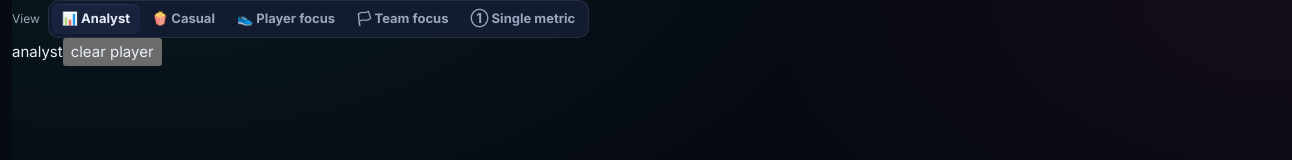
Test: view switching › defaults to Analyst, switches views, writes ?view= and remembers the choice
Check: the text named "view" reads "analyst", box x1=12 y1=42 x2=63 y2=60
Click the button "🍿 Casual".
click(183, 19)  # box x1=142 y1=4 x2=225 y2=34
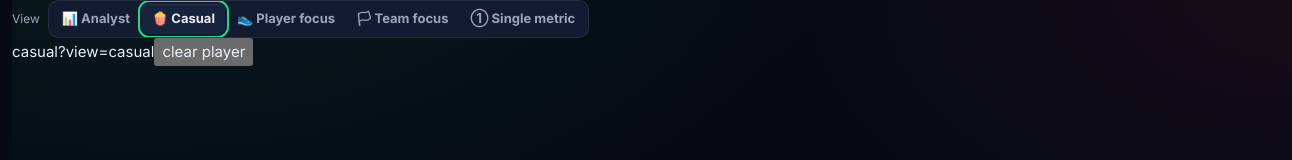
Check: the text named "view" reads "casual", box x1=12 y1=42 x2=58 y2=60
Check: the text named "search" shows "view=casual", box x1=58 y1=42 x2=154 y2=60
Click the button "👟 Player focus".
click(286, 19)  # box x1=227 y1=4 x2=345 y2=34
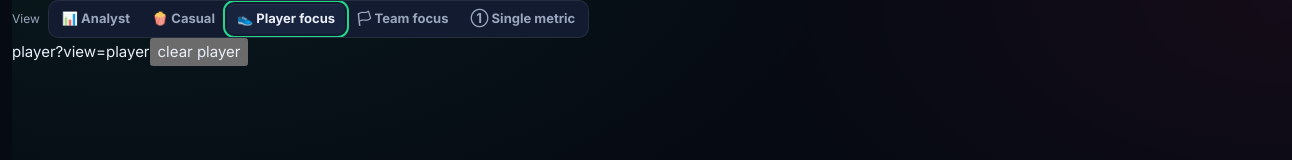
Check: the text named "view" reads "player", box x1=12 y1=42 x2=56 y2=60
Check: the text named "search" shows "view=player", box x1=56 y1=42 x2=150 y2=60
Click the button "🏳 Team focus".
click(403, 19)  # box x1=347 y1=4 x2=458 y2=34
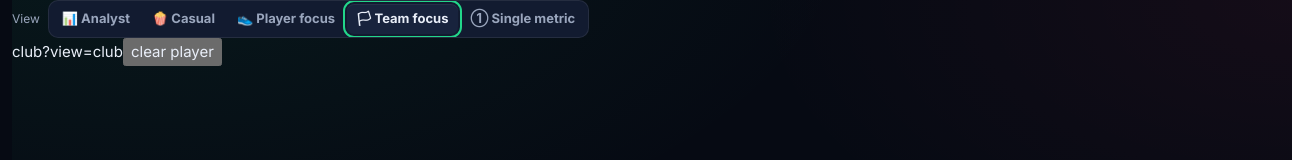
Check: the text named "view" reads "club", box x1=12 y1=42 x2=42 y2=60
Check: the text named "search" shows "view=club", box x1=42 y1=42 x2=123 y2=60
Click the button "① Single metric".
click(523, 19)  # box x1=460 y1=4 x2=585 y2=34
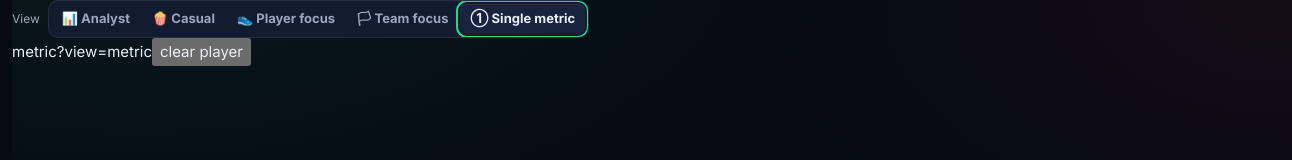
Check: the text named "view" reads "metric", box x1=12 y1=42 x2=57 y2=60
